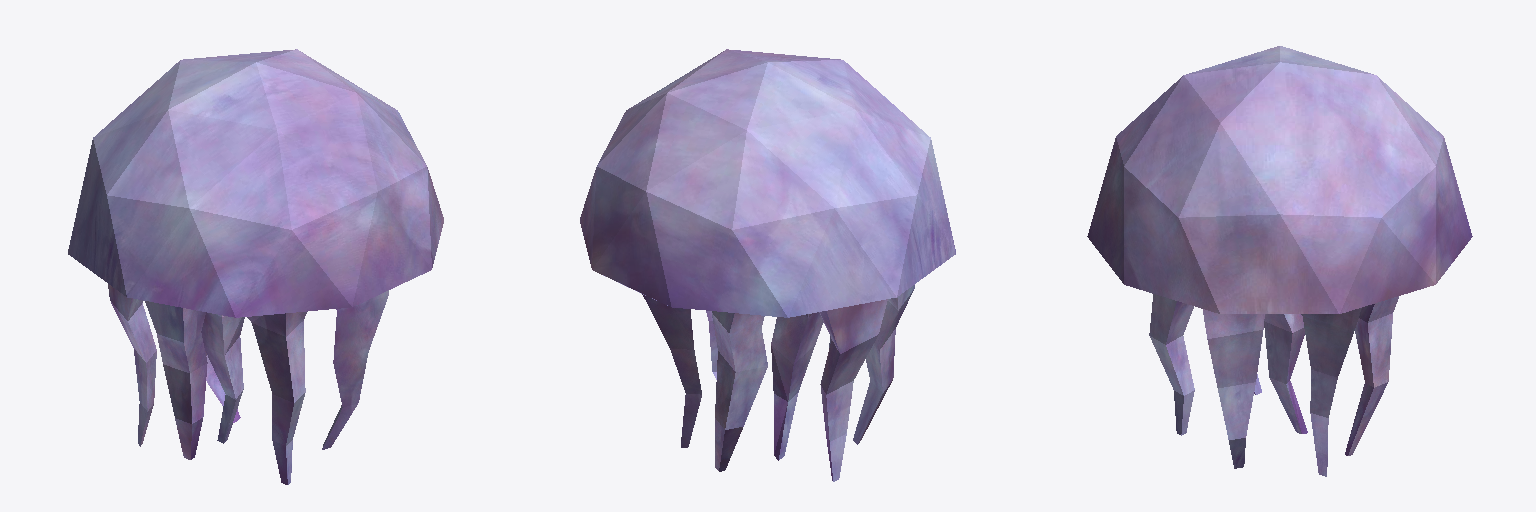
3 views of the same model, side by side, from view 1: azimuth 30°, elevation 25°; view 2: azimuth 150°, elevation 25°; view 3: azimuth 270°, elevation 25° (orthographic).
Size of the model in its own units: 2.03 by 2.37 by 2.13.
1 materials, 1 textured.